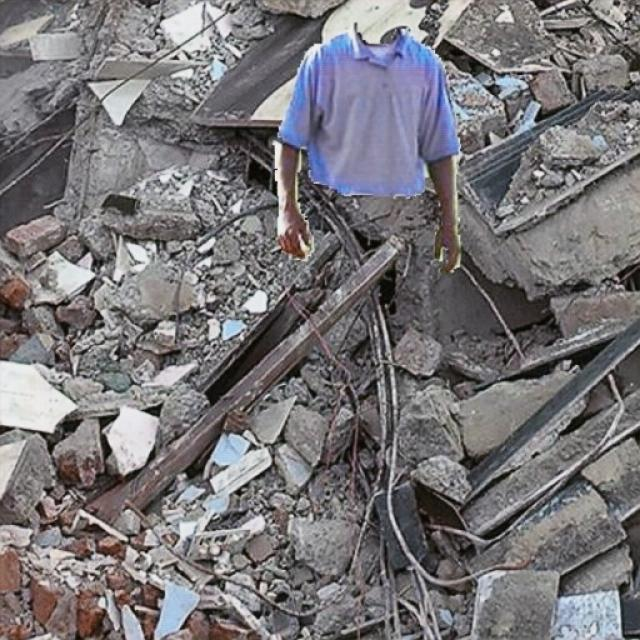Person in Rubble: (272, 22, 460, 272)
